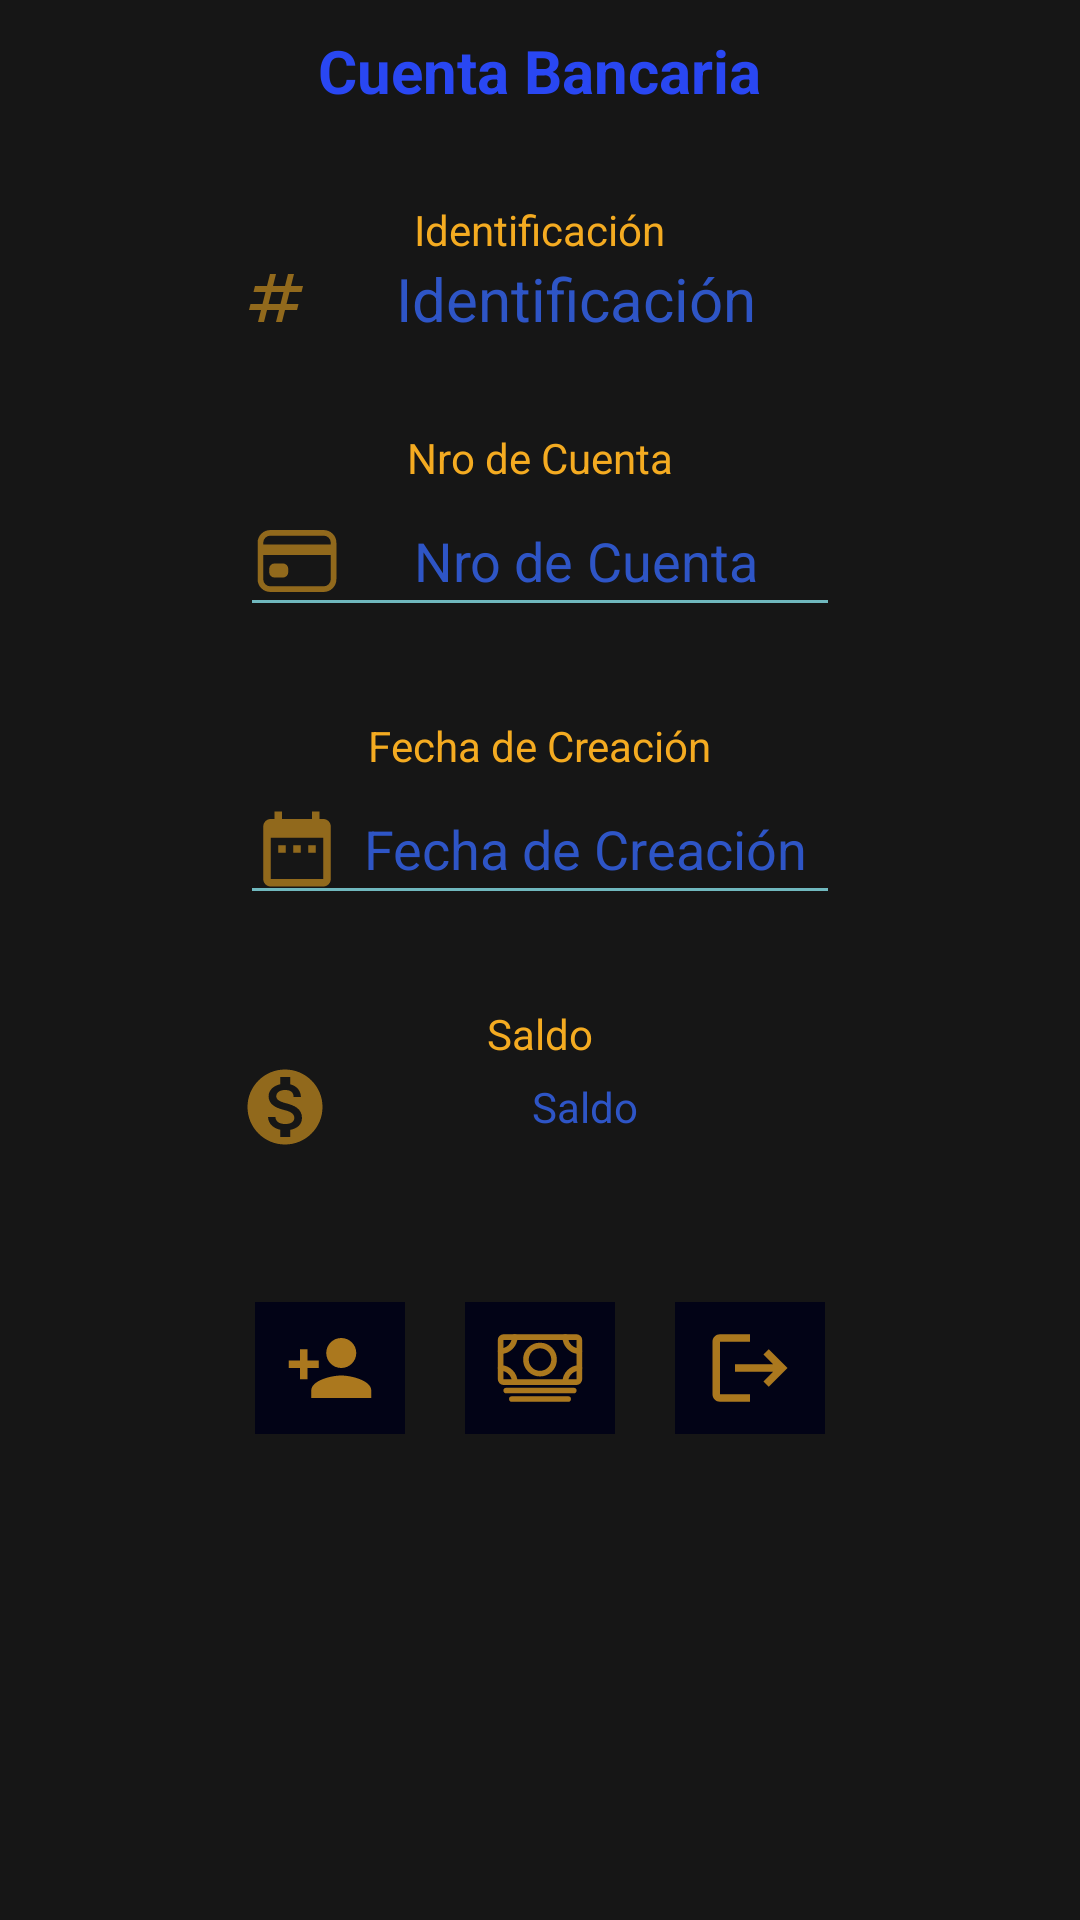

Screen size 1080w x 1920h. Icon name, then its center in pixels as (x=x, y=y):
cash: (x=540, y=1368)
